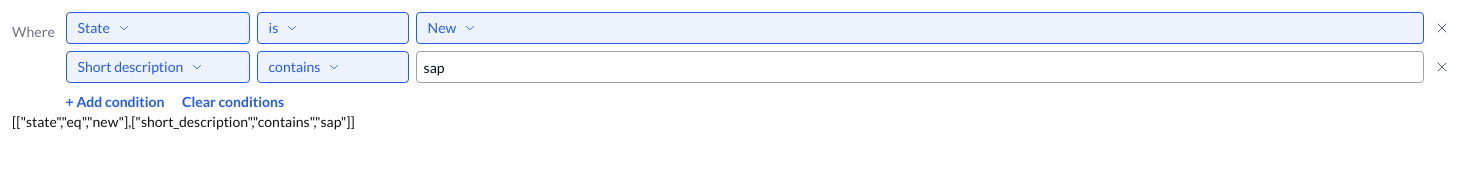
Test: ConditionBuilder › clears every condition at once and keeps both links standing
The image size is (1464, 172).
Click the button "Clear conditions" at point(233, 102), box [182,92,284,112]
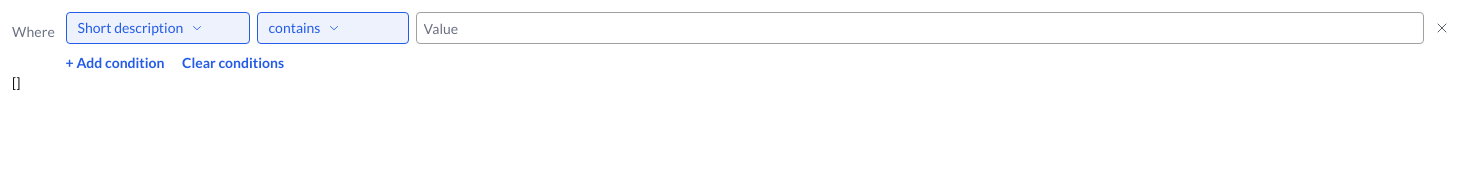
Expected: the button "+ Add condition" is shown, [66,53,164,73]
Result: the text with test id "serialized" reads "[]" at [12,74,20,91]
